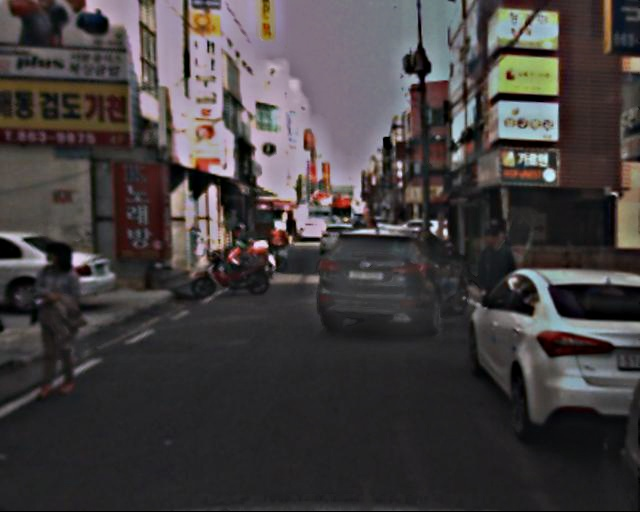person: (25, 235, 107, 402), (473, 228, 526, 343)
